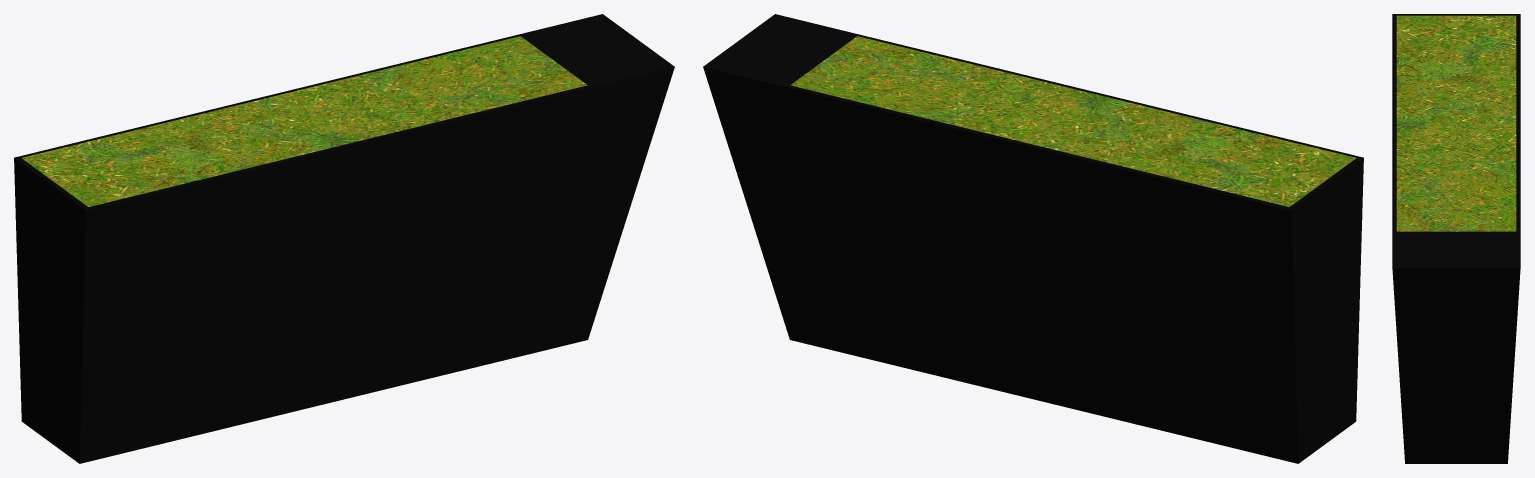
The model's file is W_O_Playground_Glassbed_003_L2.fbx.
The picture shows the model from 3 angles, left to right: view 1: azimuth 30°, elevation 25°; view 2: azimuth 150°, elevation 25°; view 3: azimuth 270°, elevation 25°; orthographic projection. The views are drawn at different scales.
Visible parts, largest first — view 1: W_O_Playground_Glassbed_003_L2; view 2: W_O_Playground_Glassbed_003_L2; view 3: W_O_Playground_Glassbed_003_L2.
Boxes of the visible parts, x1,y1,x2,y2 form: W_O_Playground_Glassbed_003_L2: [14, 14, 674, 463]; W_O_Playground_Glassbed_003_L2: [703, 14, 1363, 463]; W_O_Playground_Glassbed_003_L2: [1392, 14, 1520, 463].
Size of the model in its own units: 1.48 by 0.621 by 0.3147.
